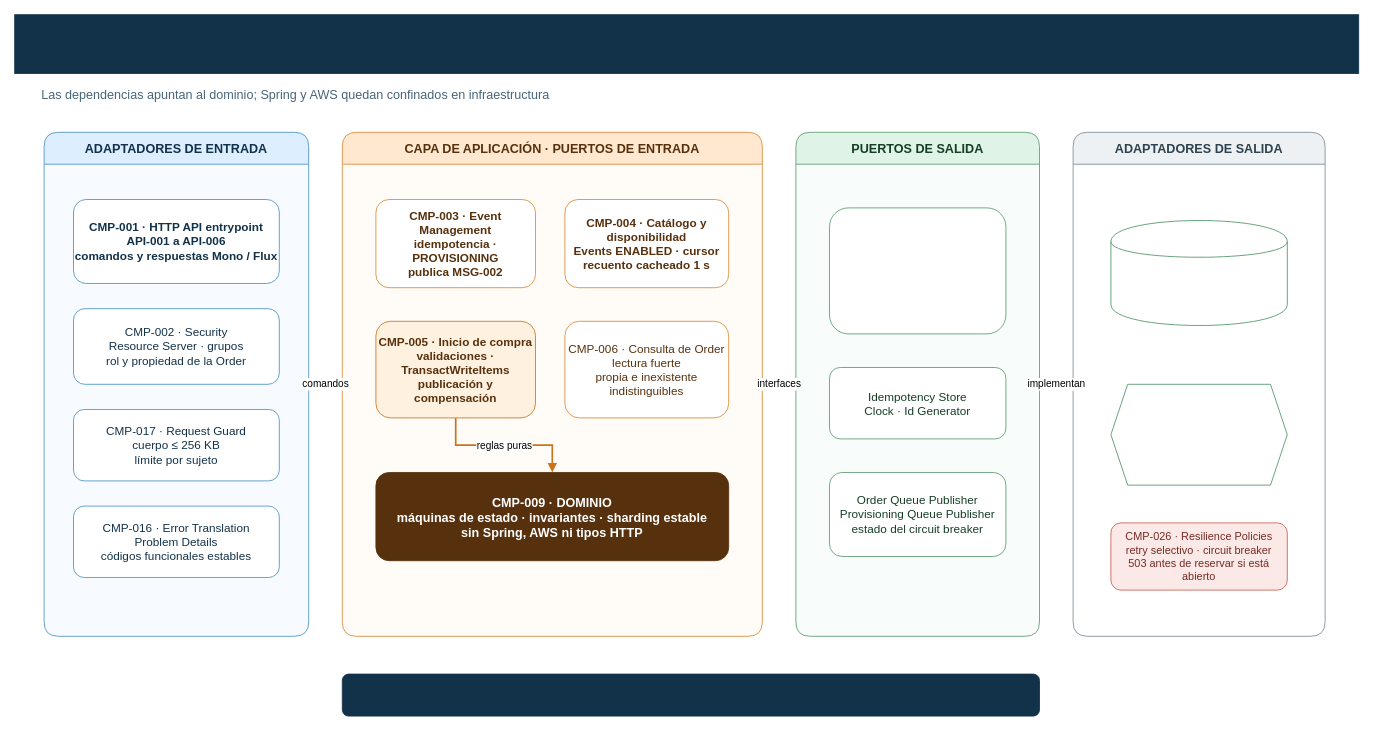
Image size: 1373x731. Some labels were removed from this diagram. Each missing label, with the centre of its shape:
"CMP-010 · DynamoDB Adapter transacciones multi-partición lecturas fuertes y GSI" goes at point (1198, 273).
"CMP-011 · SQS Publisher MSG-001 / MSG-002 500 ms · 3 intentos · 2 s" goes at point (1198, 434).
"COMPONENTES DEL ROL API · CLEAN ARCHITECTURE" goes at point (686, 44).
"Persistencia Event Catalog Ticket Inventory Order Lifecycle Store Order Reader" goes at point (917, 270).
"Regla de dependencia: Infrastructure → Application → Domain" goes at point (690, 694).
